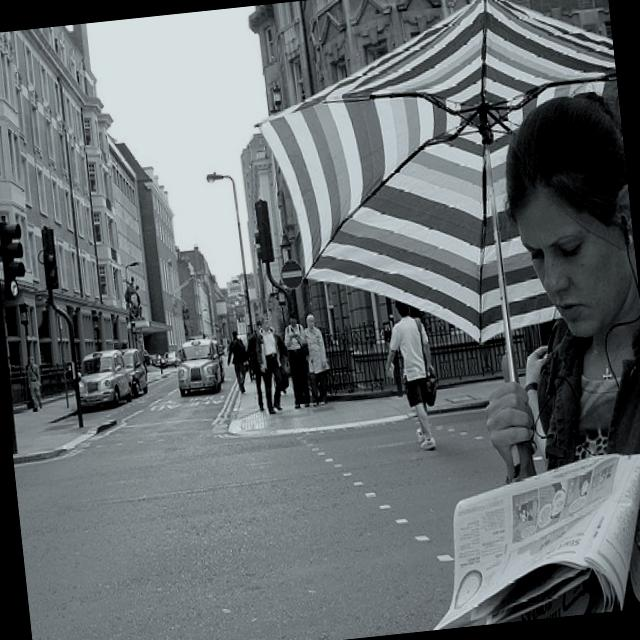Vehicle: (74, 346, 134, 412), (174, 336, 222, 397), (120, 346, 148, 396), (209, 338, 226, 383), (163, 348, 180, 368)
